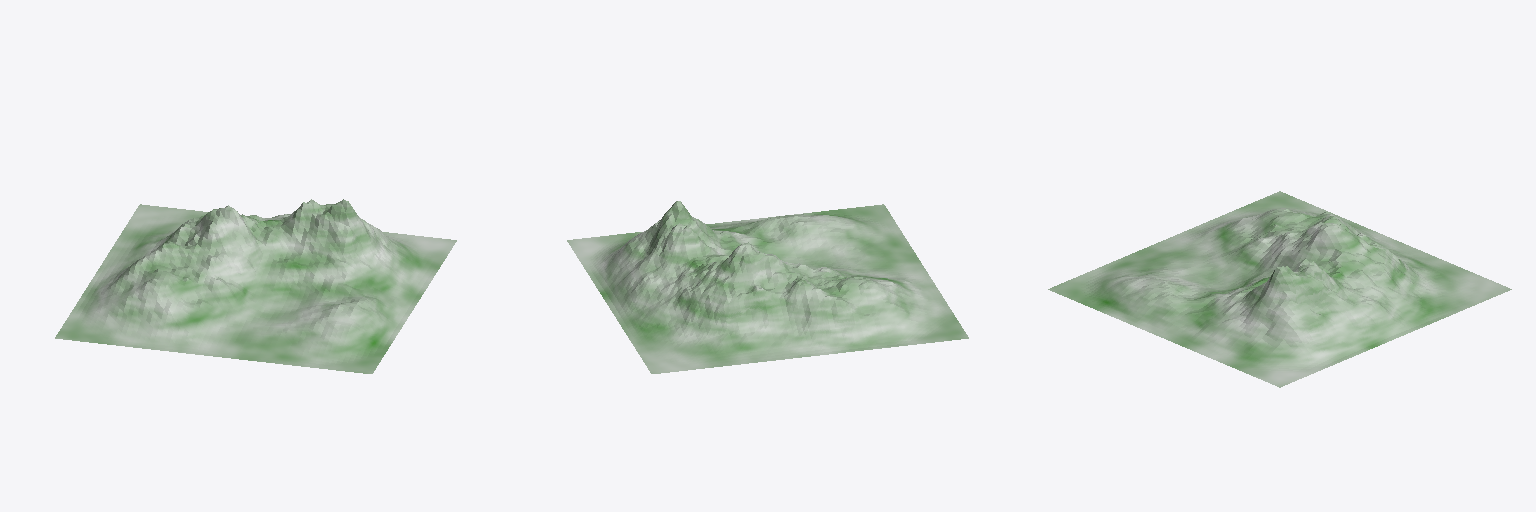
3 renders of one model, left to right at view 1: azimuth 30°, elevation 25°; view 2: azimuth 150°, elevation 25°; view 3: azimuth 270°, elevation 25°, orthographic.
Visible parts, largest first — view 1: Landscape.004; view 2: Landscape.004; view 3: Landscape.004.
Part boxes in pixels (x1,y1,x2,y2): Landscape.004: (55, 199, 456, 373); Landscape.004: (567, 201, 968, 373); Landscape.004: (1048, 191, 1511, 387).
Bounding box in the file's own units: 509 × 80.71 × 509.
Materials: 1 (1 with a texture image).